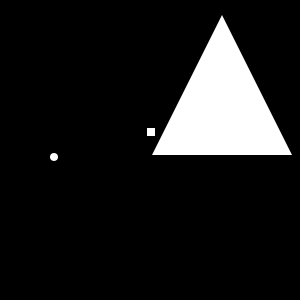circle: (147, 128, 155, 136)
rectangle: (50, 153, 58, 161)
triangle: (152, 15, 292, 155)
